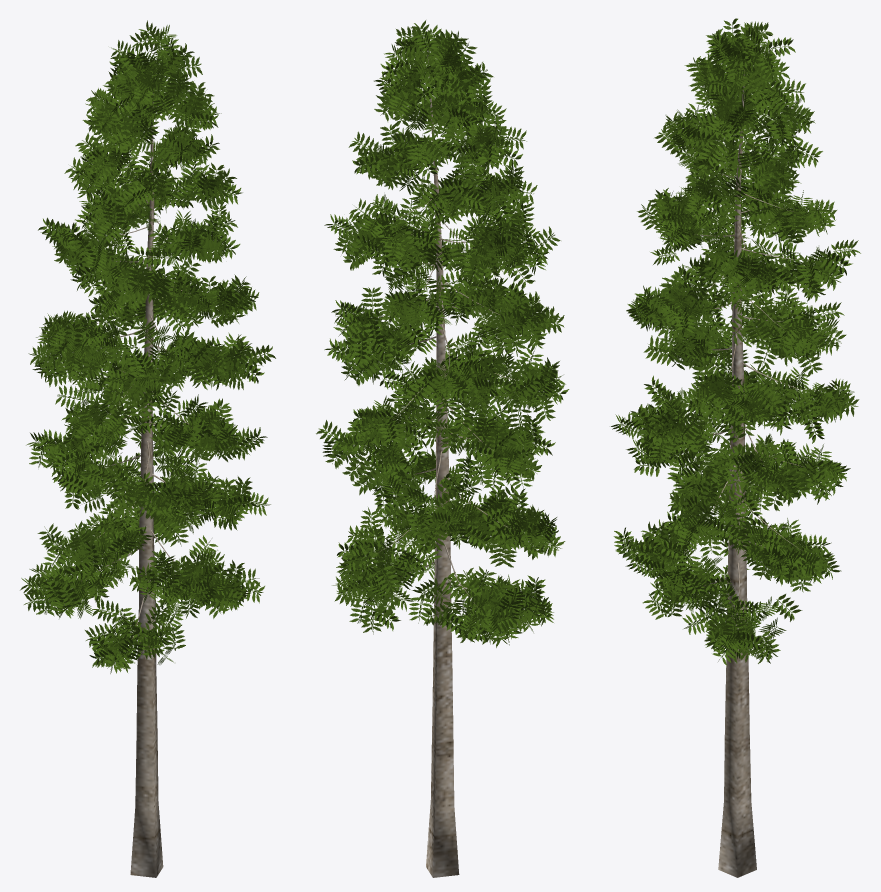
File: DamarTree.fbx
The picture shows the model from 3 angles, left to right: view 1: azimuth 30°, elevation 25°; view 2: azimuth 150°, elevation 25°; view 3: azimuth 270°, elevation 25°; orthographic projection. The views are drawn at different scales.
Visible parts, largest first — view 1: DamarTree; view 2: DamarTree; view 3: DamarTree.
Boxes of the visible parts, x1,y1,x2,y2 form: DamarTree: [20, 20, 275, 877]; DamarTree: [316, 20, 569, 877]; DamarTree: [611, 18, 860, 877].
Size of the model in its own units: 921 by 3126 by 867.
Materials: 2 (2 with a texture image).
